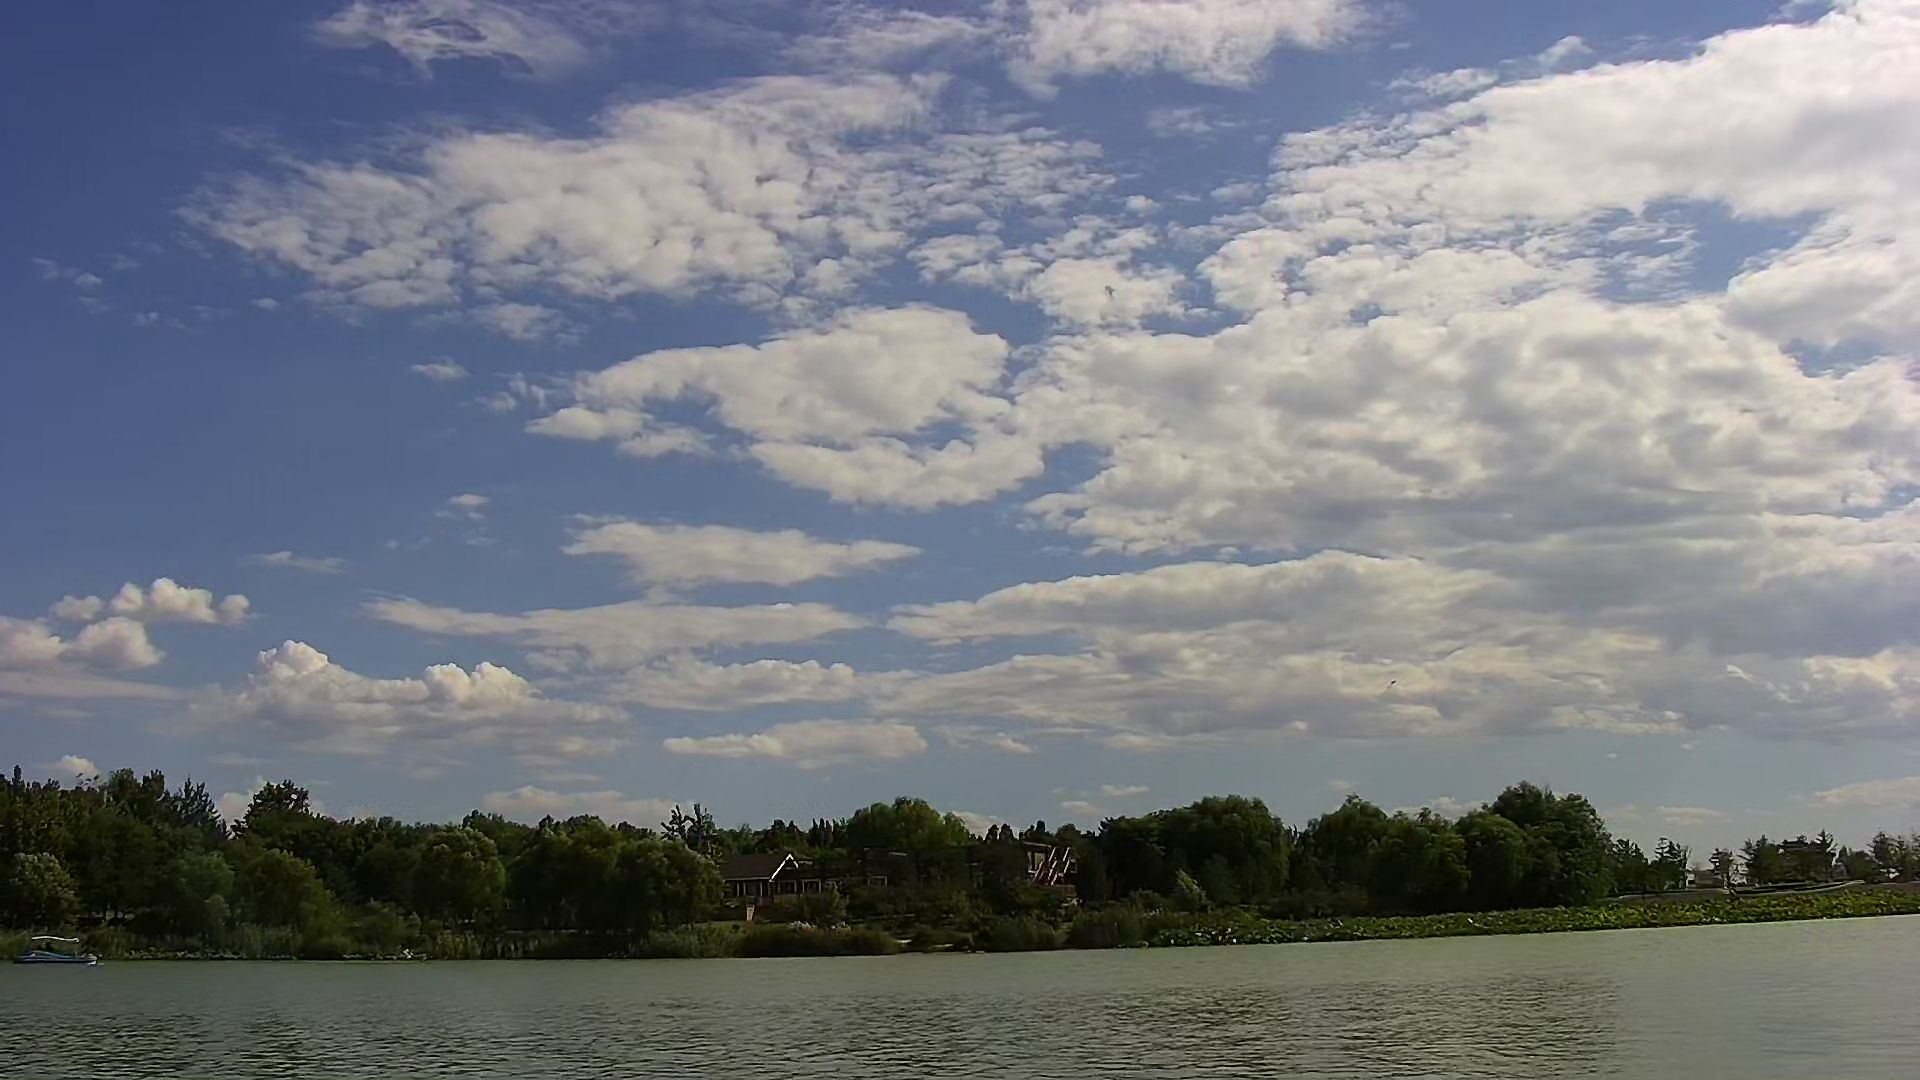boat: (22, 932, 84, 961)
grass: (1195, 893, 1908, 948)
